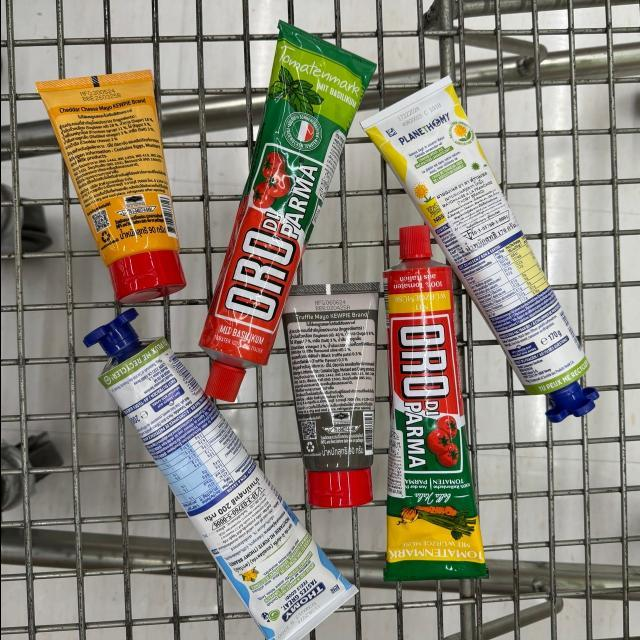Squeeze Tube: (72, 307, 359, 637), (357, 71, 608, 431), (184, 18, 383, 417), (386, 223, 486, 582), (45, 69, 184, 305), (276, 285, 376, 503)
